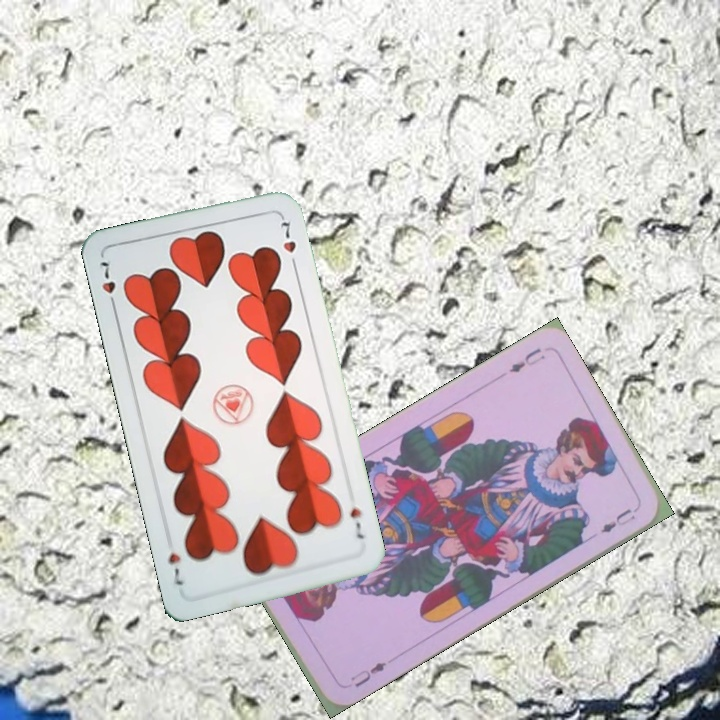EU: (505, 343, 548, 376), (346, 658, 390, 690)
H7: (96, 257, 119, 313), (346, 503, 367, 541)
